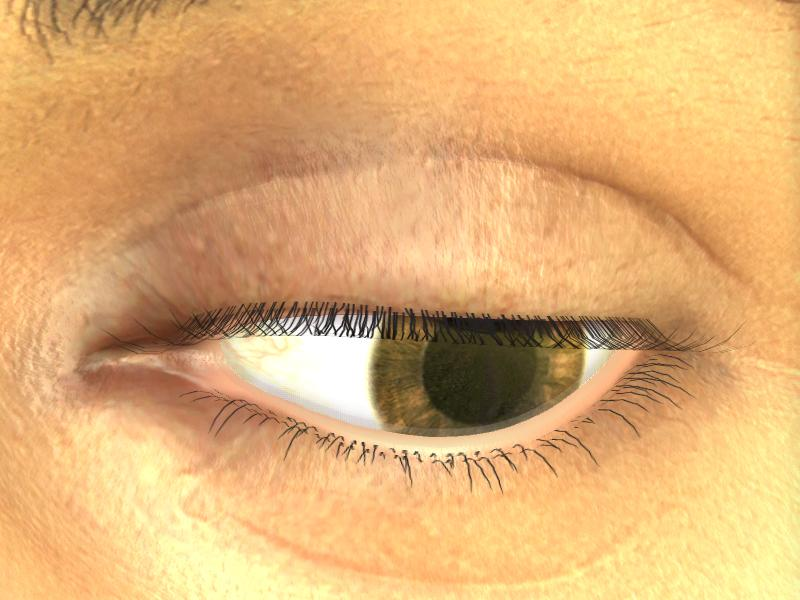eye: (367, 314, 589, 433)
